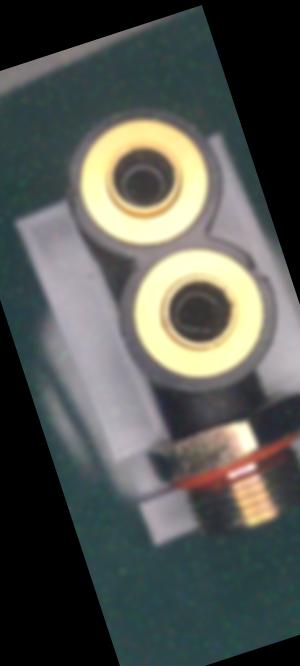bump: (43, 161, 91, 231), (225, 238, 272, 298)
off-centered: (160, 271, 244, 351)
white mark: (198, 399, 217, 417)
